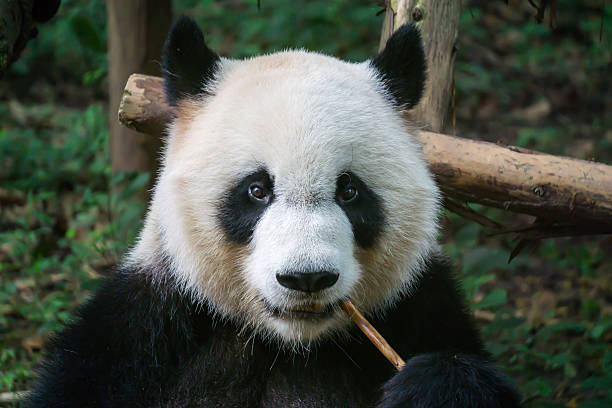panda: (120, 7, 469, 353)
